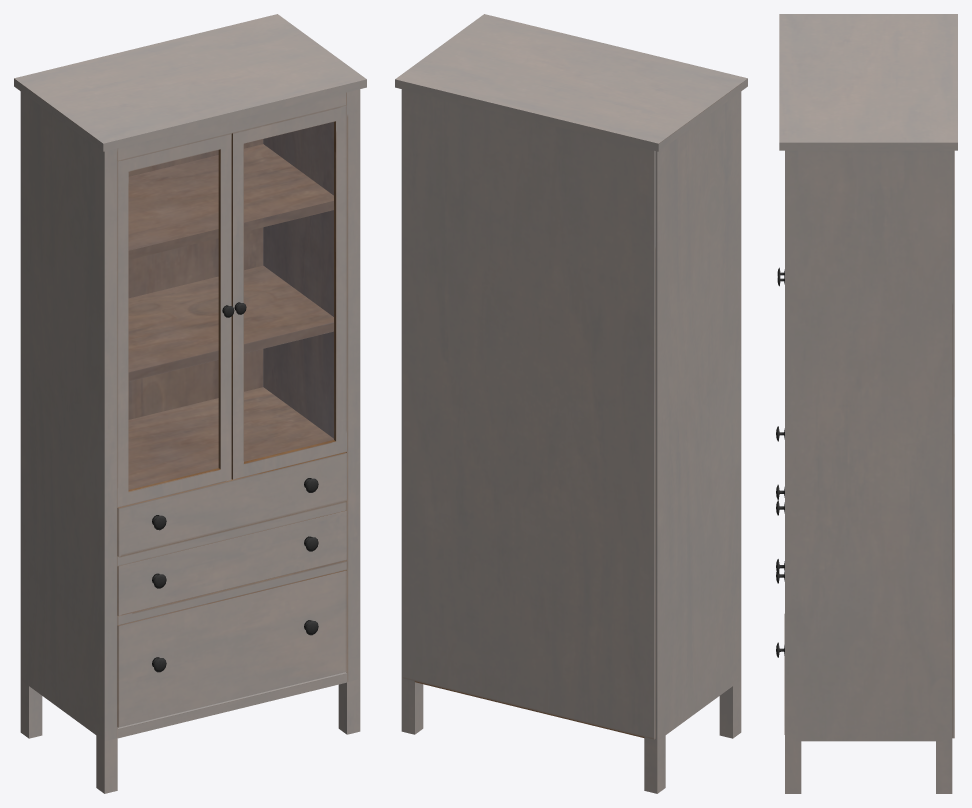
Rendered from cabinet_col6.glb.
3 renders of one model, left to right at view 1: azimuth 30°, elevation 25°; view 2: azimuth 150°, elevation 25°; view 3: azimuth 270°, elevation 25°, orthographic.
Visible parts, largest first — view 1: CabinetB_Glass_low_8; view 2: CabinetB_Glass_low_8; view 3: CabinetB_Glass_low_8.
Boxes of the visible parts, left/top/right/bottom form: CabinetB_Glass_low_8: left=14, top=14, right=366, bottom=793; CabinetB_Glass_low_8: left=395, top=14, right=747, bottom=793; CabinetB_Glass_low_8: left=776, top=14, right=957, bottom=793.
Size of the model in its own units: 0.8901 by 2.11 by 0.532.
Materials: 3 (2 with a texture image).
